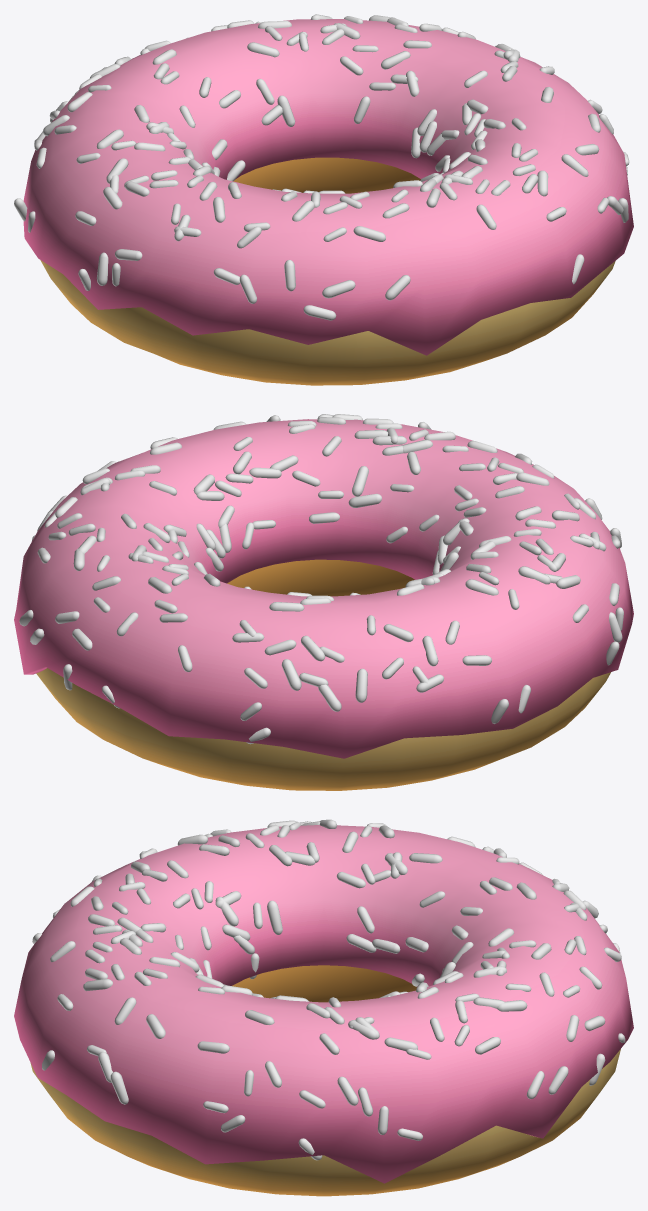
The model's file is donut.fbx.
The picture shows the model from 3 angles, top to bottom: view 1: azimuth 30°, elevation 25°; view 2: azimuth 150°, elevation 25°; view 3: azimuth 270°, elevation 25°; orthographic projection.
Visible parts, largest first — view 1: icing, donut; view 2: icing, donut; view 3: icing, donut.
Part boxes in pixels (x1=…): icing: x1=23, y1=19, x2=633, y2=355; donut: x1=40, y1=157, x2=615, y2=385; icing: x1=14, y1=419, x2=633, y2=758; donut: x1=36, y1=559, x2=610, y2=790; icing: x1=14, y1=825, x2=633, y2=1183; donut: x1=30, y1=965, x2=620, y2=1196.
Size of the model in its own units: 78.78 by 25.19 by 77.91.
